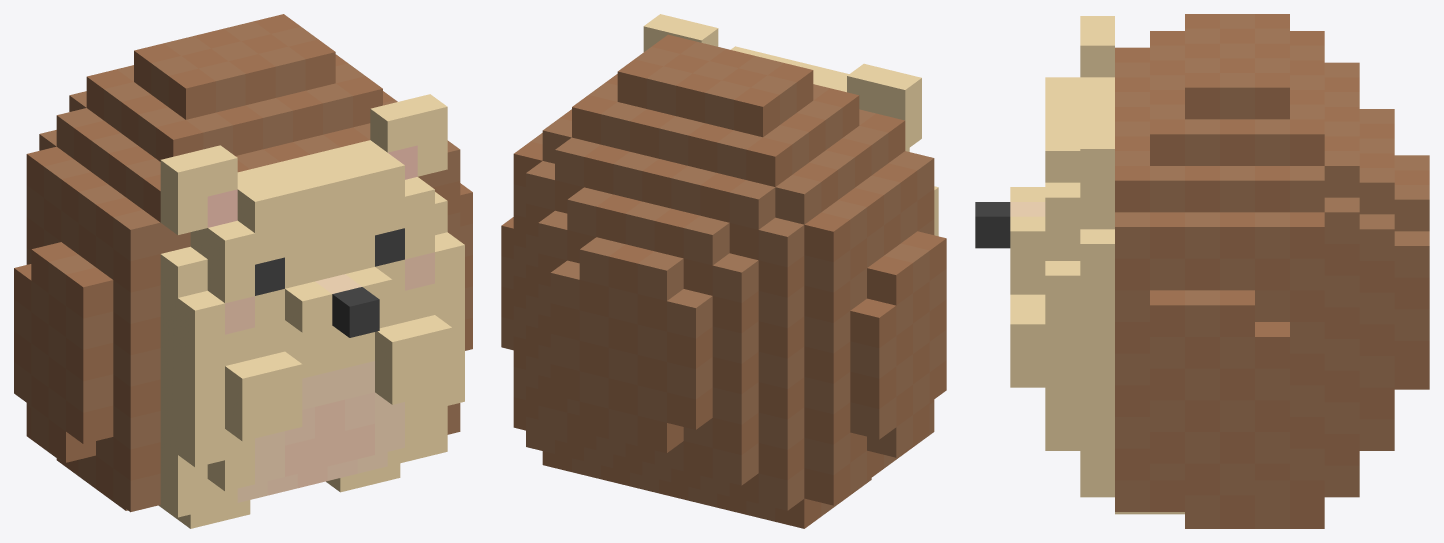
The model's file is hedgehog_standing.obj.
The picture shows the model from 3 angles, left to right: view 1: azimuth 30°, elevation 25°; view 2: azimuth 150°, elevation 25°; view 3: azimuth 270°, elevation 25°; orthographic projection. The views are drawn at different scales.
Size of the model in its own units: 1.3 by 1.3 by 1.3.
1 material, 1 textured.
